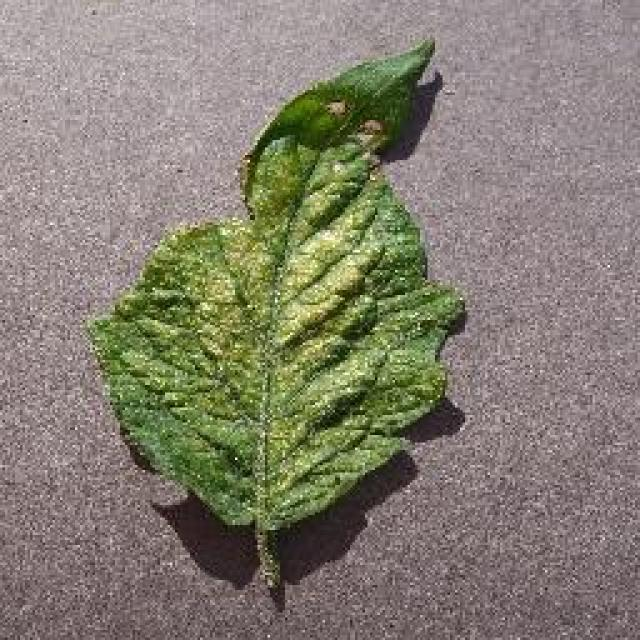Tomato mosaic virus leaf: (91, 35, 466, 537)
